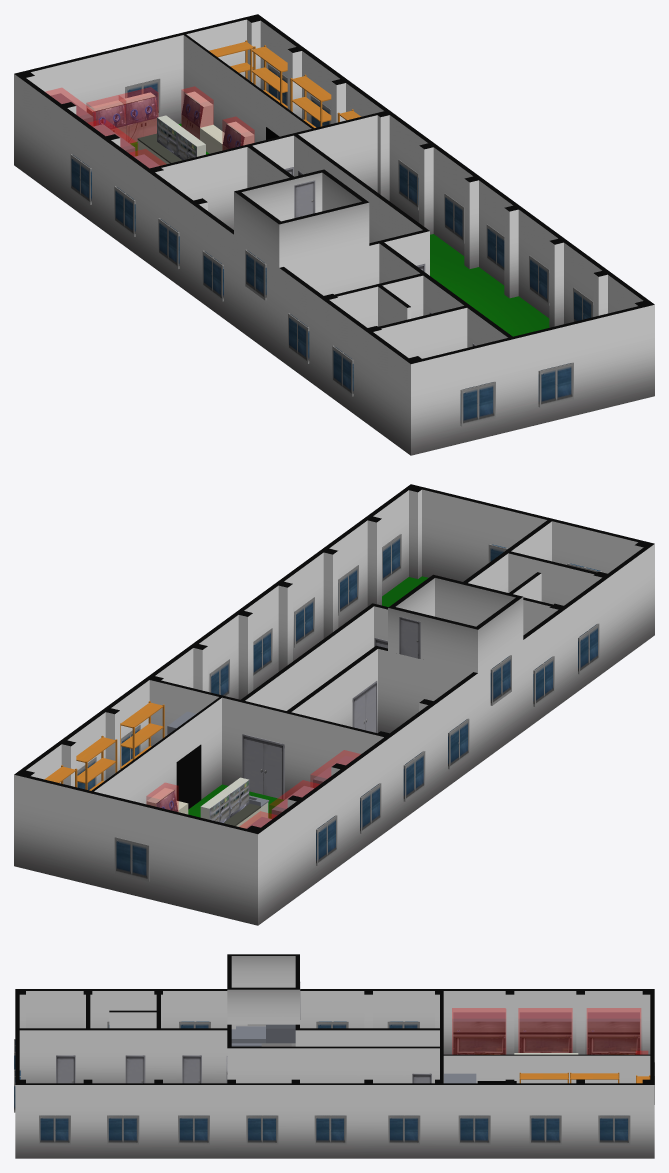
Rendered from soulbrain_T3-2-2F.glb.
The picture shows the model from 3 angles, top to bottom: view 1: azimuth 30°, elevation 25°; view 2: azimuth 150°, elevation 25°; view 3: azimuth 270°, elevation 25°; orthographic projection. The views are drawn at different scales.
Visible parts, largest first — view 1: Line002, Box213, Group303, Box170, equipment-T3-2-2F-005, equipment-T3-2-2F-006, equipment-T3-2-2F-004, Box257, equipment-T3-2-2F-007; view 2: Line002, Box213, Group303, Box257, Box170, equipment-T3-2-2F-007, equipment-T3-2-2F-002; view 3: Line002, Box213, Group303, equipment-T3-2-2F-003, equipment-T3-2-2F-001, equipment-T3-2-2F-002, Box257, UTypeStair002.
Part boxes in pixels (left/top/right/bottom): Line002: left=14, top=14, right=654, bottom=455; Box213: left=70, top=64, right=593, bottom=426; Group303: left=50, top=40, right=360, bottom=168; Box170: left=130, top=123, right=549, bottom=336; equipment-T3-2-2F-005: left=119, top=87, right=158, bottom=142; equipment-T3-2-2F-006: left=181, top=86, right=213, bottom=139; equipment-T3-2-2F-004: left=86, top=95, right=125, bottom=139; Box257: left=266, top=127, right=475, bottom=346; equipment-T3-2-2F-007: left=222, top=117, right=254, bottom=149; Line002: left=14, top=484, right=654, bottom=925; Box213: left=77, top=534, right=602, bottom=881; Group303: left=44, top=701, right=355, bottom=828; Box257: left=176, top=617, right=420, bottom=809; Box170: left=188, top=576, right=428, bottom=818; equipment-T3-2-2F-007: left=146, top=783, right=178, bottom=811; equipment-T3-2-2F-002: left=269, top=780, right=319, bottom=818; Line002: left=15, top=954, right=654, bottom=1158; Box213: left=14, top=1021, right=654, bottom=1144; Group303: left=444, top=1012, right=650, bottom=1083; equipment-T3-2-2F-003: left=452, top=1008, right=505, bottom=1054; equipment-T3-2-2F-001: left=587, top=1008, right=640, bottom=1054; equipment-T3-2-2F-002: left=518, top=1008, right=572, bottom=1052; Box257: left=56, top=982, right=516, bottom=1083; UTypeStair002: left=231, top=1024, right=295, bottom=1046.
Size of the model in its own units: 10.68 by 5.61 by 29.93.
Materials: 16 (13 with a texture image).
